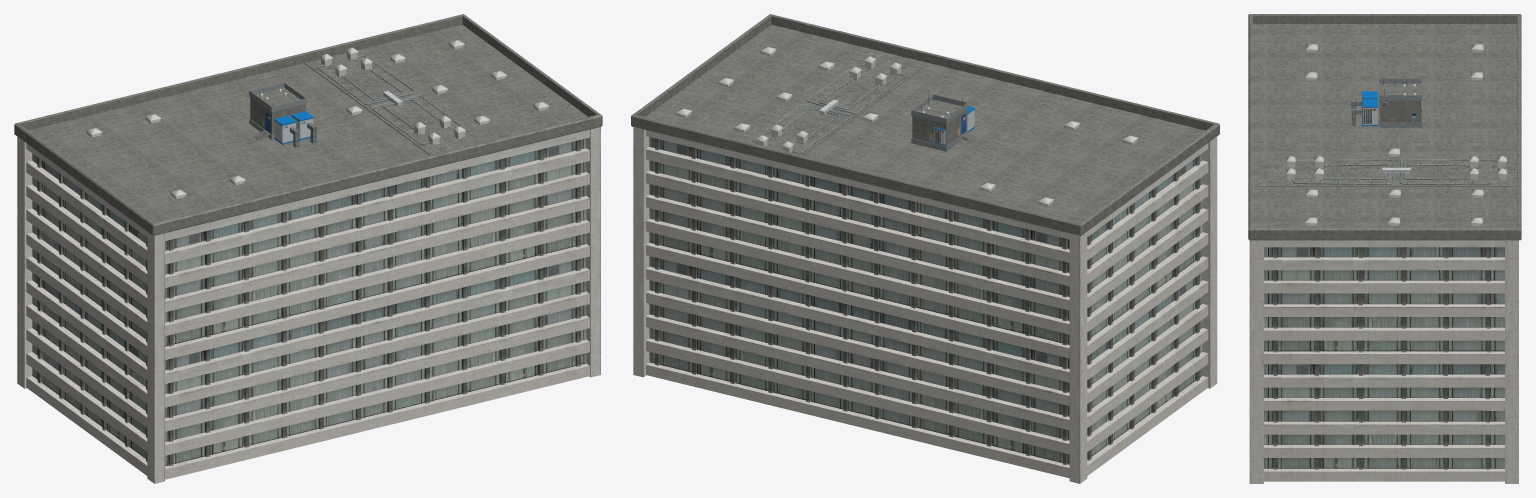
File: u2WBuild5.gltf
The picture shows the model from 3 angles, left to right: view 1: azimuth 30°, elevation 25°; view 2: azimuth 150°, elevation 25°; view 3: azimuth 270°, elevation 25°; orthographic projection.
Visible parts, largest first — view 1: u2WBuild5; view 2: u2WBuild5; view 3: u2WBuild5.
Boxes of the visible parts, x1,y1,x2,y2 form: u2WBuild5: [14, 14, 602, 483]; u2WBuild5: [631, 14, 1219, 483]; u2WBuild5: [1248, 14, 1521, 483].
Size of the model in its own units: 21.47 by 13.18 by 11.49.
Materials: 11 (11 with a texture image).
